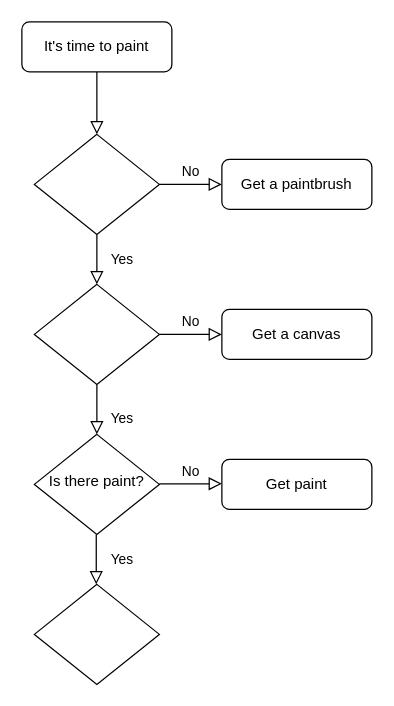
This 394x706 diagram has some shape labels left out. The shapes that lost their labels are listed below. From the top down, each one's centre as x and y in pixels, then its label:
pixel 96 183: Is there a paintbrush?
pixel 96 333: Is there a canvas?
pixel 96 633: Begin painting
